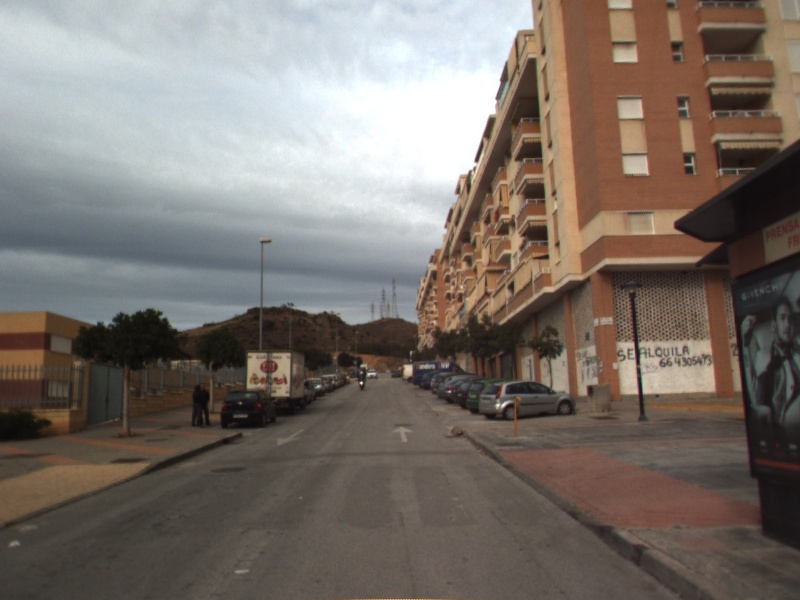STRAIGHT: (390, 424, 415, 444)
